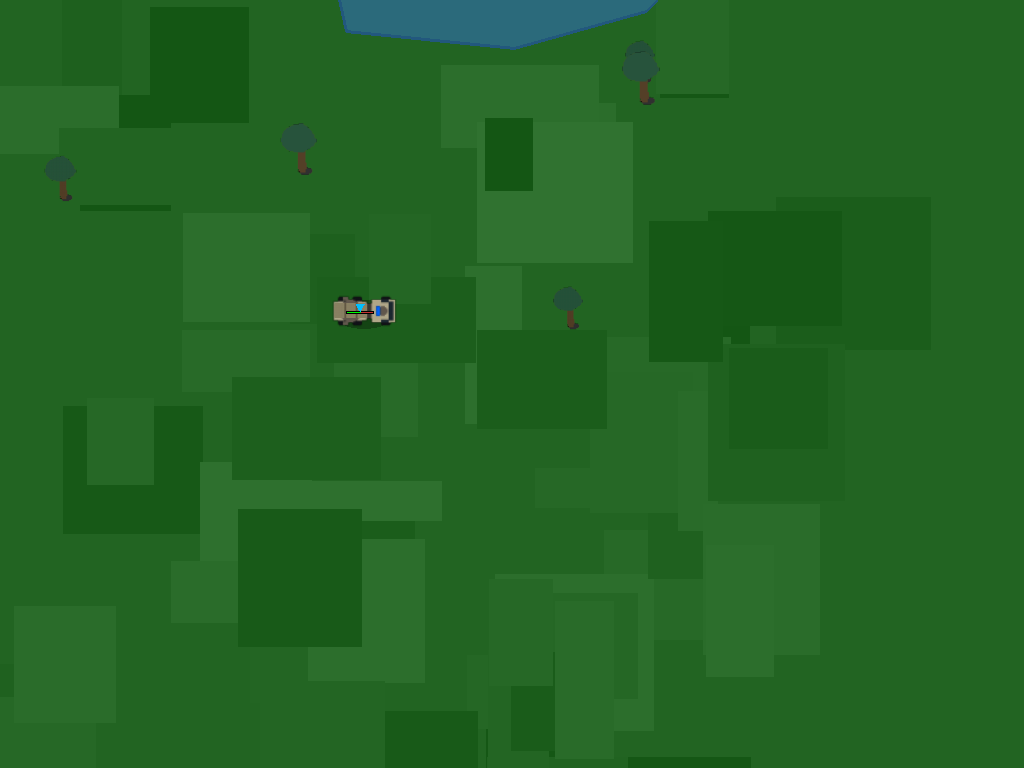HIMARS: (331, 280, 390, 339)
Lake: (323, 0, 731, 48)
